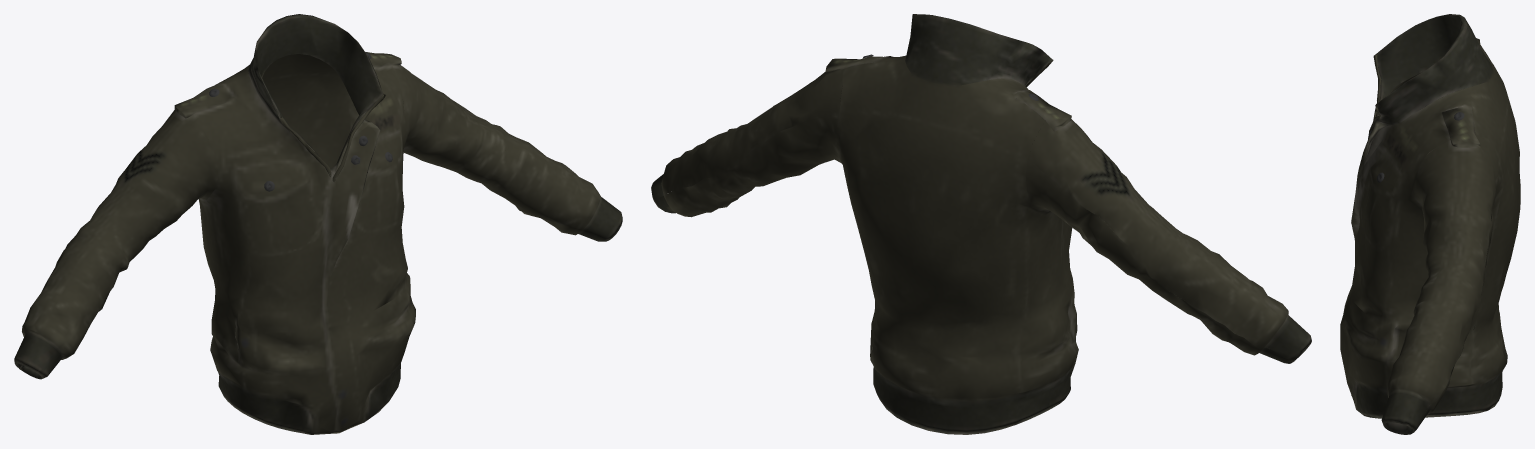
File: SM_game_res_us_army_jacket.glb
3 renders of one model, left to right at view 1: azimuth 30°, elevation 25°; view 2: azimuth 150°, elevation 25°; view 3: azimuth 270°, elevation 25°, orthographic. The views are drawn at different scales.
Parts seen in each view (by area): view 1: SM_game_res_us_army_jacket; view 2: SM_game_res_us_army_jacket; view 3: SM_game_res_us_army_jacket.
Part boxes in pixels (x1,y1,x2,y2): SM_game_res_us_army_jacket: [14, 14, 622, 434]; SM_game_res_us_army_jacket: [651, 14, 1311, 434]; SM_game_res_us_army_jacket: [1340, 14, 1520, 434].
Size of the model in its own units: 2 by 1.2 by 0.5124.
Materials: 1 (1 with a texture image).
